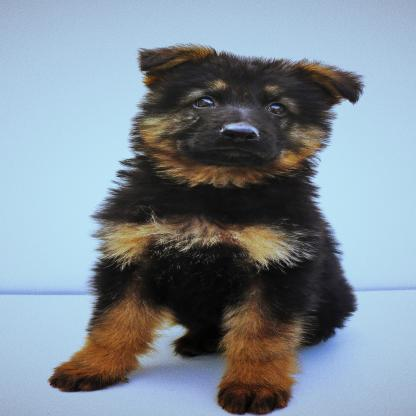german shepherd: (50, 48, 369, 414)
